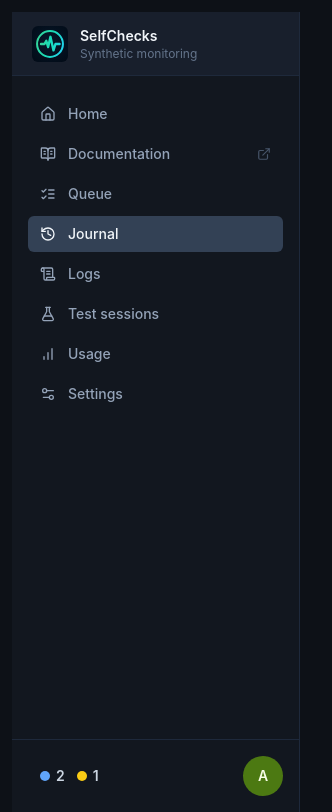
AppSidebar › renders navigation and the account block in the sidebar footer
The width and height of the screenshot is (332, 812).
Check: the button "SelfChecks Synthetic monitoring" is shown, box [12,12,299,76]
Check: the message named "Running 2, queued 1" is shown, box [40,766,99,786]
Click the button "Home".
click(156, 114)  # box [28,96,283,132]
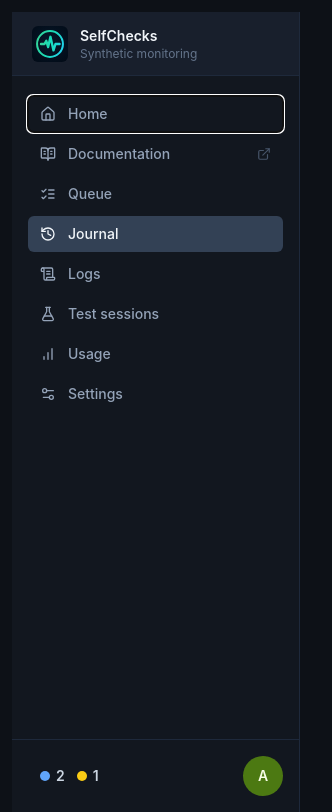
Click the button named "Open account menu".
click(263, 776)  # box [243,756,283,796]
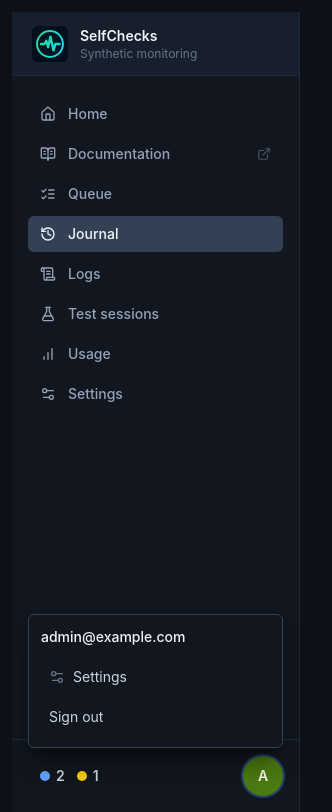
Check: the number of links "Settings" is 2, box [40,385,123,402]; [49,668,127,685]
Check: the text "admin@example.com" is shown, box [41,628,186,645]
